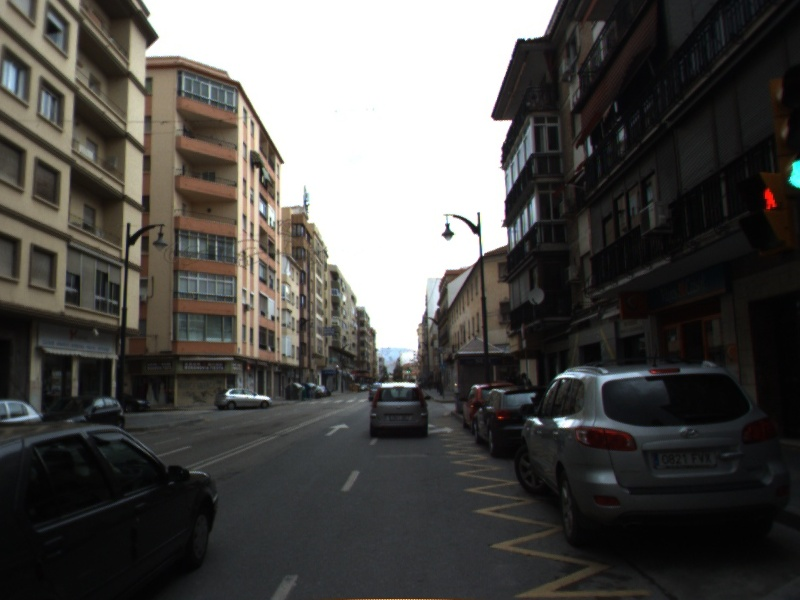STRAIGHT: (323, 421, 351, 437)
